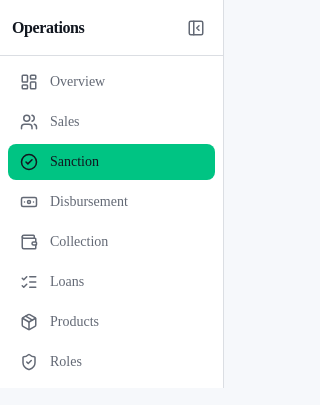
Sidebar › collapses to icons-only and persists the choice
Click the button named "collapse".
click(196, 28)  # box [181,12,211,42]
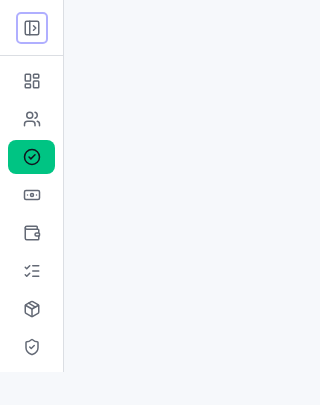
Check: the link named "sanction" is shown, box [8,140,55,174]
Check: the text "Sanction" is gone
